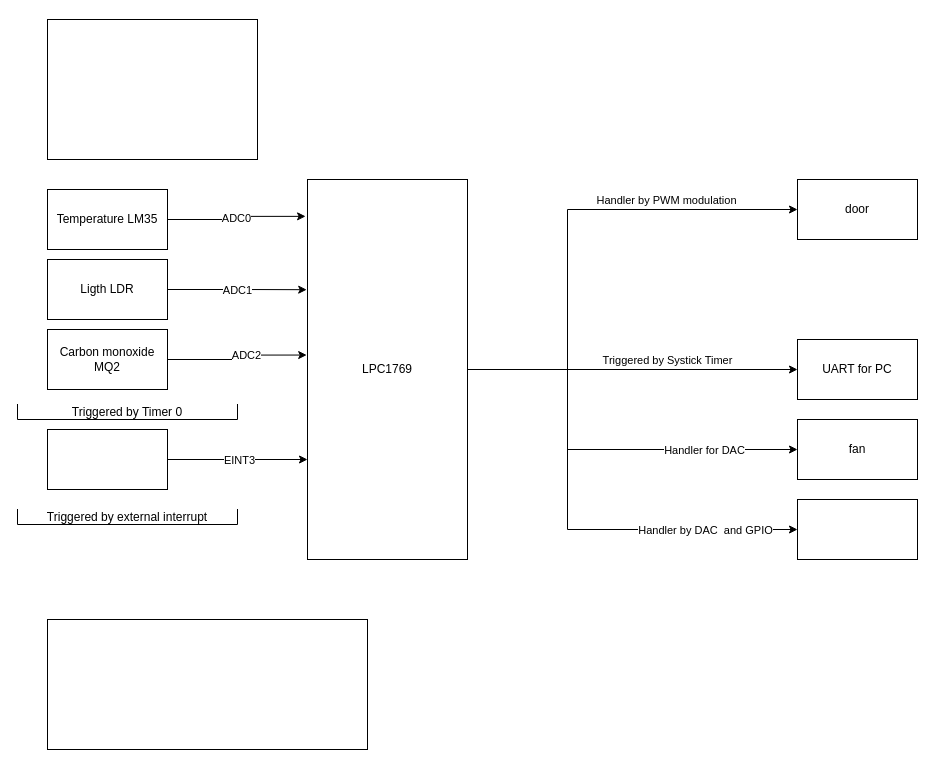
The diagram is 935 pixels wide and 767 high, and some of its shapes have lost their labels. Each missing label, with the centre of its shape:
DMA ADC Ch0 LM35 P2M ADC Ch1 LDR P2M ADC Ch2 MQ2 P2M M2P DAC (Fan): point 207,684
led open led close led transmit data: point 857,529
modules to implement: TIMER0 SYSTICK GPIO ADC DAC DMA UARTÇ PWM: point 152,89
PULSADOR ABRIR/CERRAR: point 107,459
